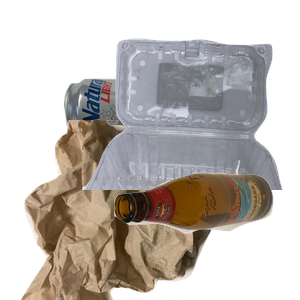glass: (111, 170, 300, 300)
metal: (61, 75, 231, 202)
plastic: (80, 36, 300, 216)
trash: (19, 120, 249, 300)
